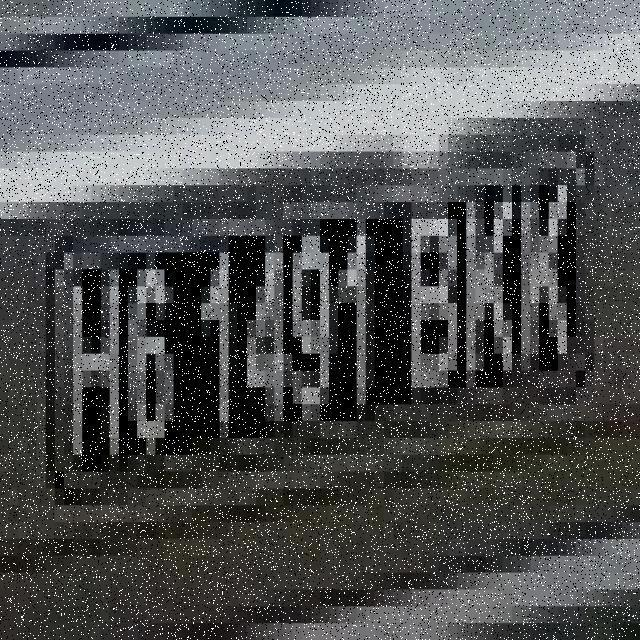LicensePlate: (33, 86, 594, 538)
